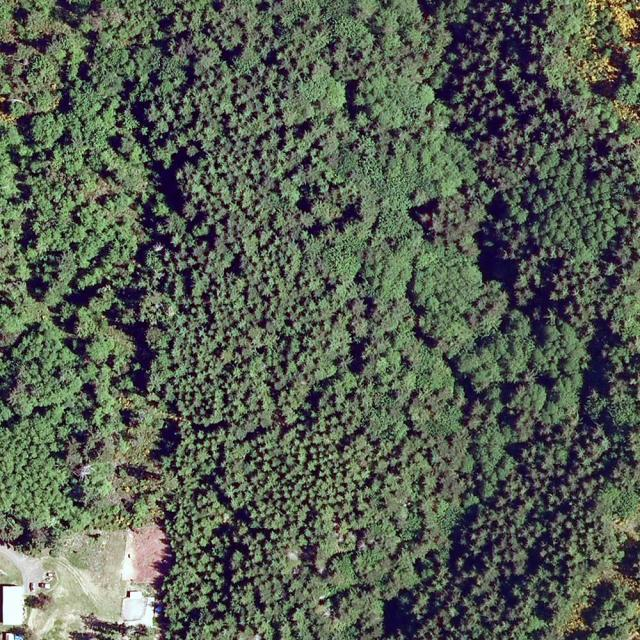building: (121, 589, 155, 627)
dryland: (50, 523, 171, 599), (51, 568, 129, 624)
unmetalled_road: (0, 543, 38, 579), (21, 570, 36, 594)
